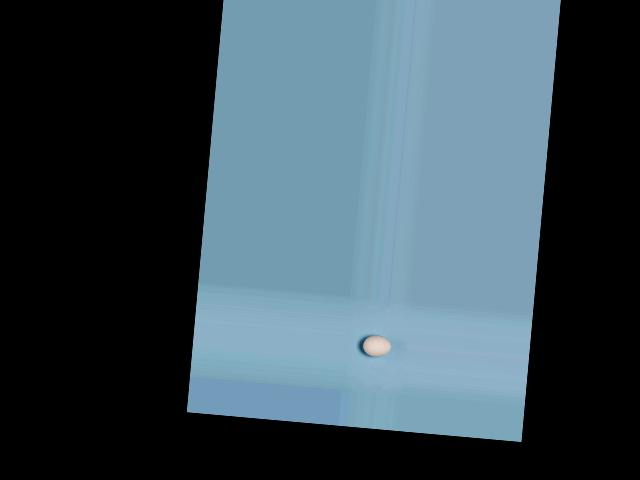egg: (361, 334, 392, 358)
